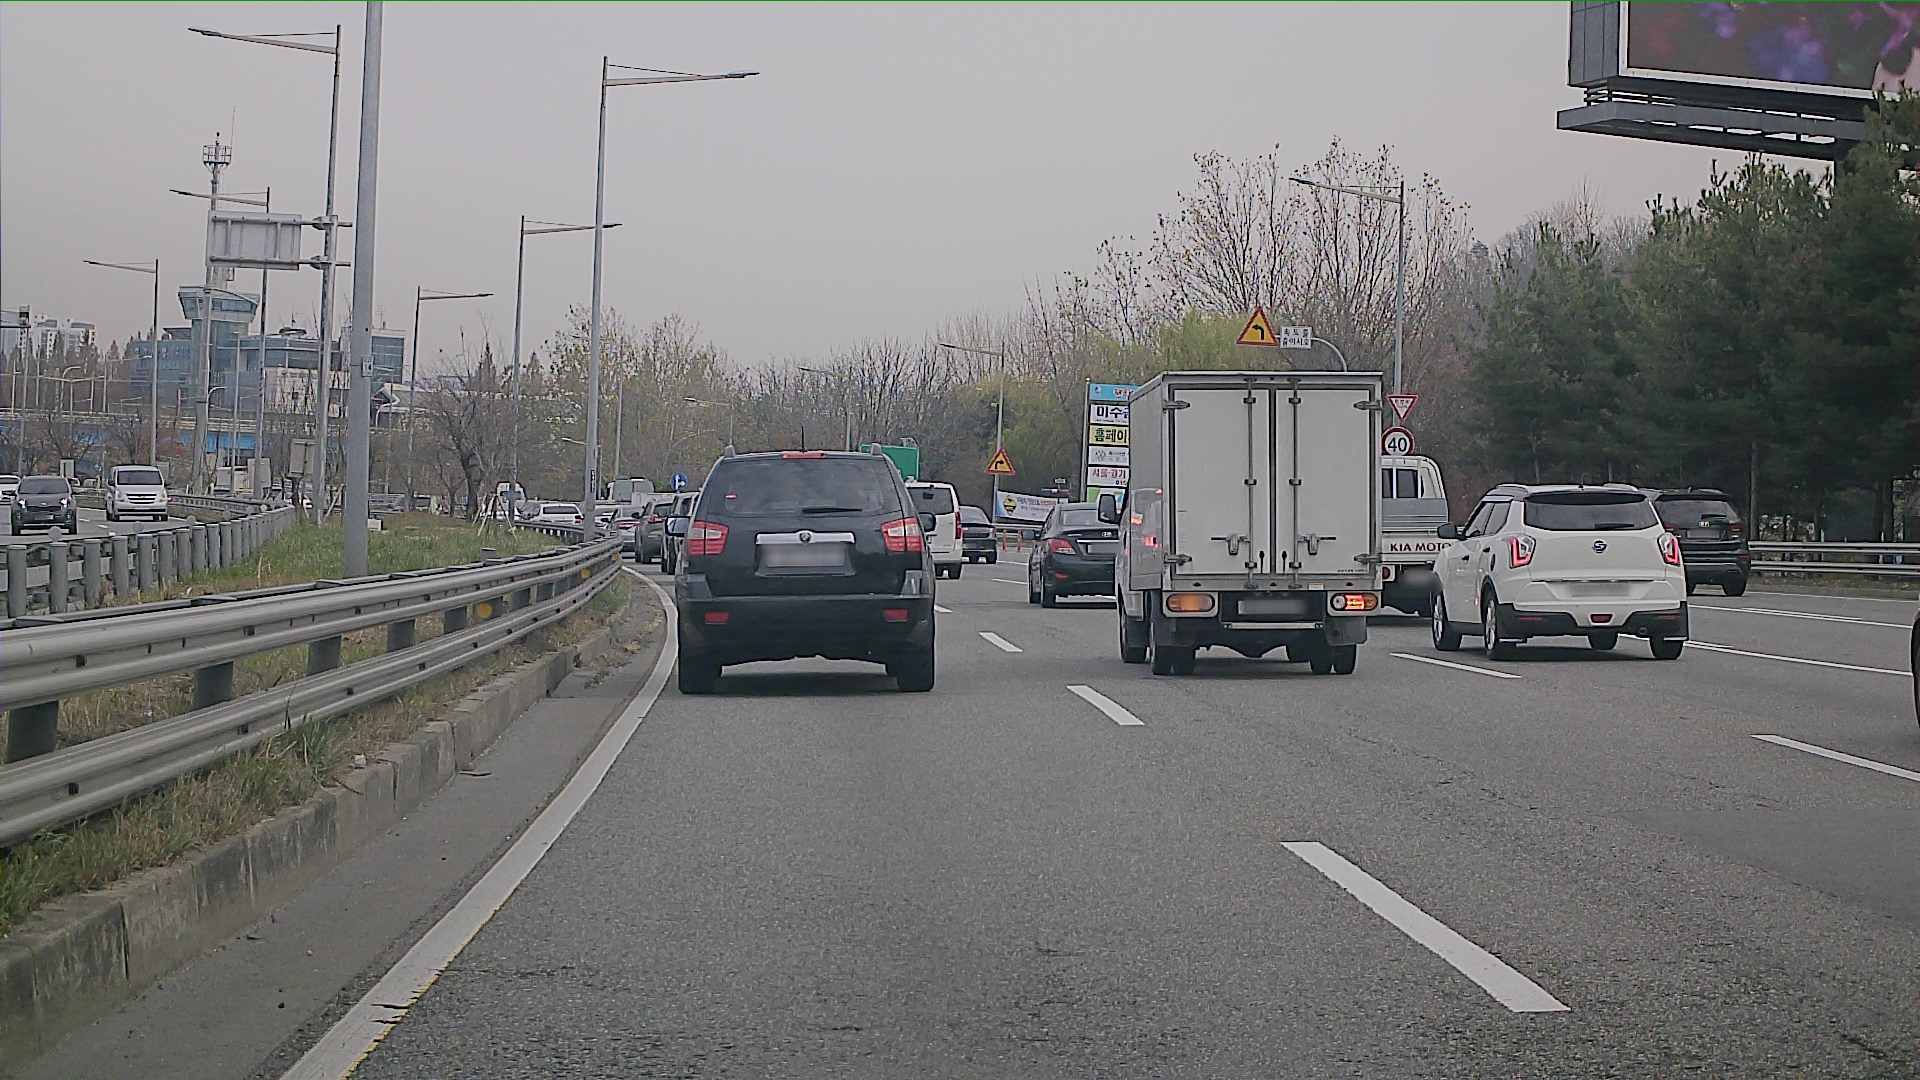trafficSignCircle: (1383, 433, 1414, 458)
trafficSignRTG: (1280, 327, 1313, 349)
trafficSignTri: (1236, 307, 1276, 345), (1387, 393, 1418, 418), (986, 448, 1014, 475)
